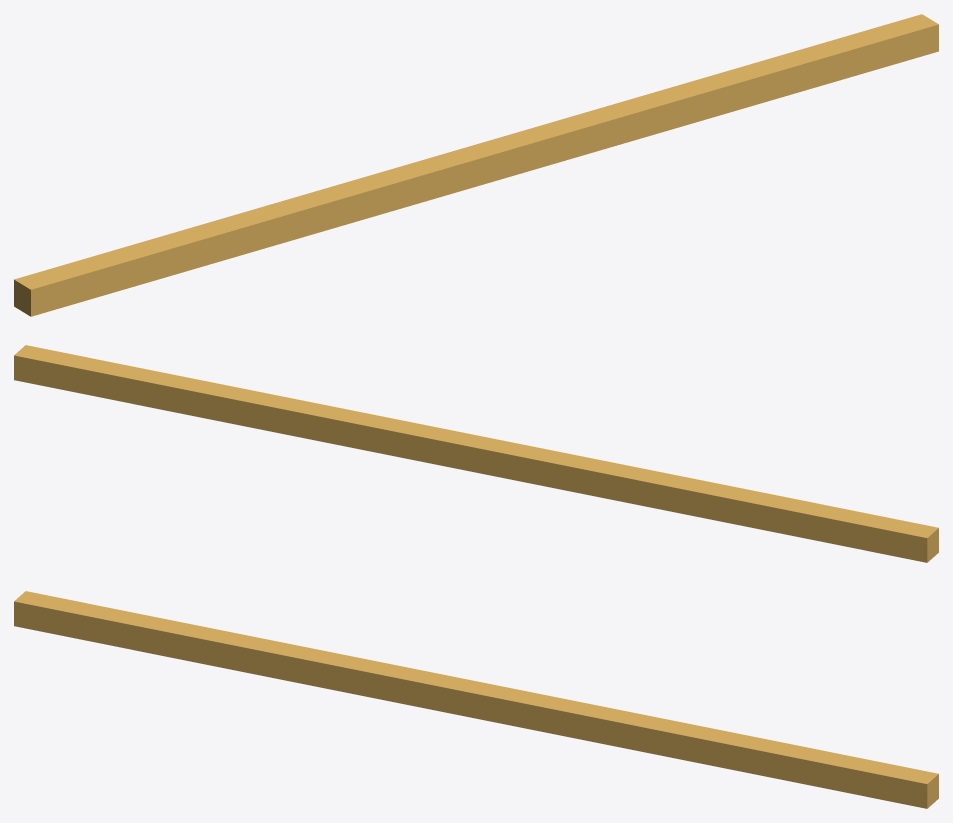
Rendered from Palillo2.glb.
The picture shows the model from 3 angles, top to bottom: view 1: azimuth 30°, elevation 25°; view 2: azimuth 150°, elevation 25°; view 3: azimuth 330°, elevation 25°; orthographic projection. The views are drawn at different scales.
Visible parts, largest first — view 1: Palillo_2; view 2: Palillo_2; view 3: Palillo_2.
Part boxes in pixels (x1,y1,x2,y2): Palillo_2: (14,14,938,316); Palillo_2: (14,345,938,562); Palillo_2: (14,591,938,808).
Size of the model in its own units: 10.14 by 0.2738 by 1.1.
